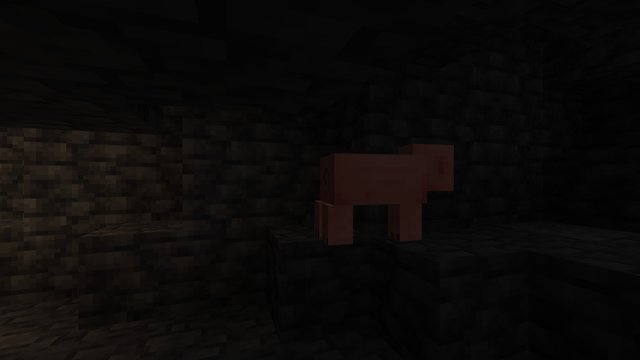cochons: (318, 148, 431, 249)
